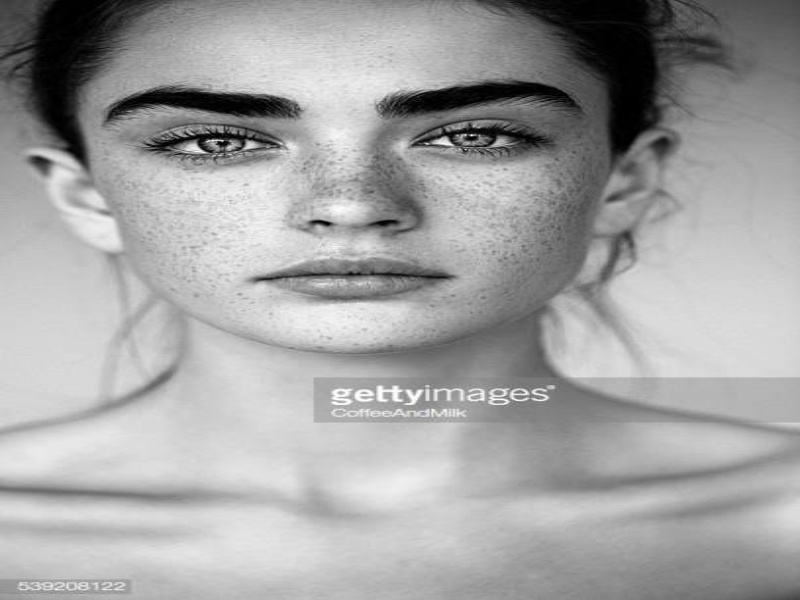face: (111, 21, 578, 312)
